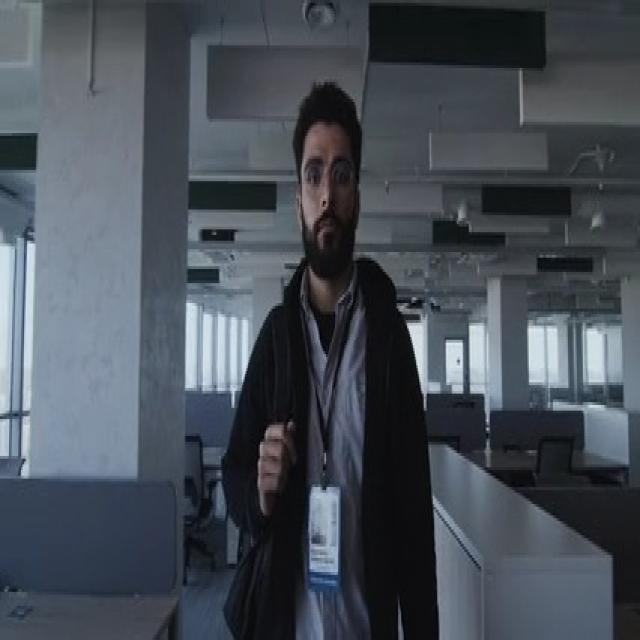Jacket_Wearer: (220, 226, 437, 640)
Person: (221, 71, 433, 640)
